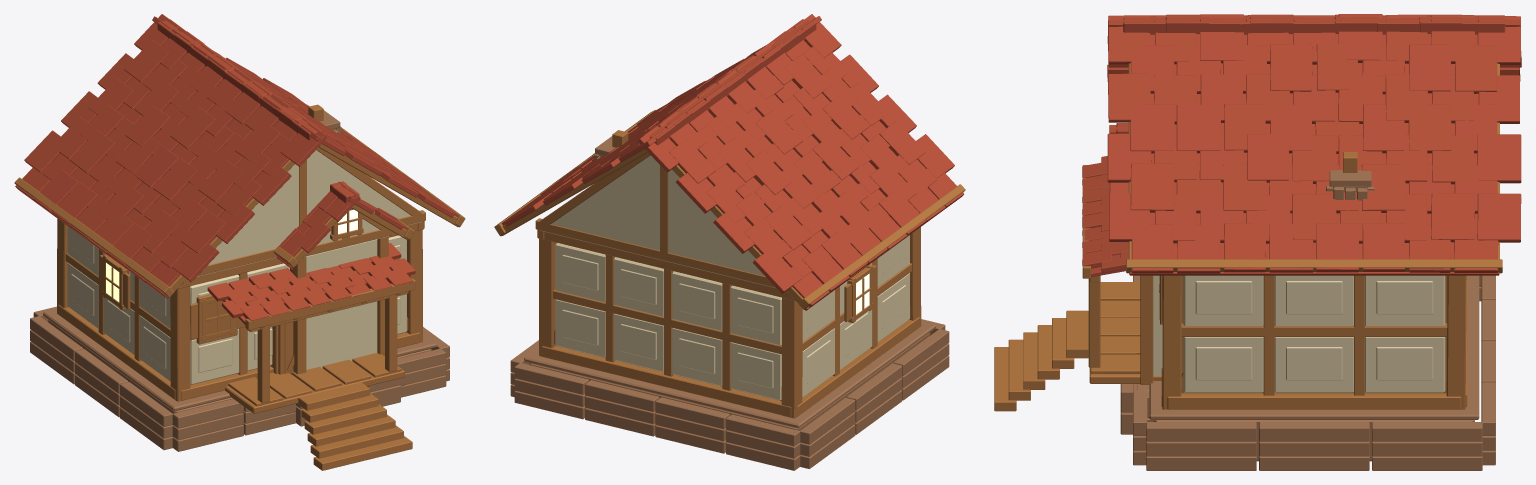
File: house_cottage_c.glb
3 renders of one model, left to right at view 1: azimuth 30°, elevation 25°; view 2: azimuth 150°, elevation 25°; view 3: azimuth 270°, elevation 25°, orthographic. The views are drawn at different scales.
Parts seen in each view (by area): view 1: house_cottage_c_LOD0; view 2: house_cottage_c_LOD0; view 3: house_cottage_c_LOD0.
Part boxes in pixels (x1=…): house_cottage_c_LOD0: x1=14, y1=14, x2=465, y2=470; house_cottage_c_LOD0: x1=494, y1=14, x2=965, y2=470; house_cottage_c_LOD0: x1=994, y1=14, x2=1521, y2=470.
Size of what is drawn, in the model's own units: 6.74 by 6.18 by 8.04.
